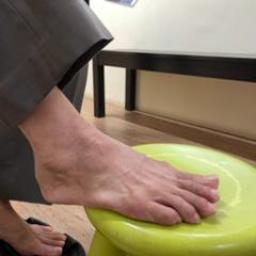Lateral View -Right Foot-: (12, 87, 232, 242)
